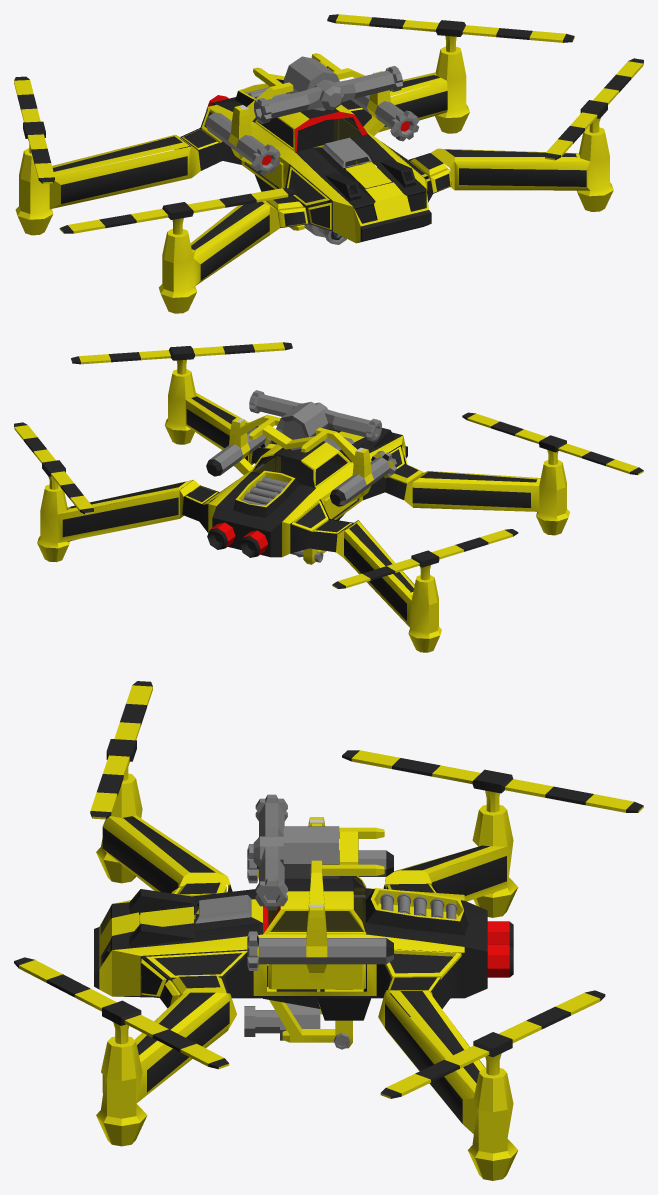
Rendered from Zutiszutim.fbx.
3 views of the same model, one above another, from view 1: azimuth 30°, elevation 25°; view 2: azimuth 150°, elevation 25°; view 3: azimuth 270°, elevation 25° (orthographic). The views are drawn at different scales.
Visible parts, largest first — view 1: drone_costum_Cube.001, drone_costum_Cube.003, drone_costum_Cube, drone_costum_Cube.002, drone_costum_Cube.004; view 2: drone_costum_Cube.001, drone_costum_Cube.002, drone_costum_Cube.004, drone_costum_Cube, drone_costum_Cube.003; view 3: drone_costum_Cube.001, drone_costum_Cube.004, drone_costum_Cube.003, drone_costum_Cube.002, drone_costum_Cube.
Part boxes in pixels (x1=…): drone_costum_Cube.001: x1=15, y1=46, x2=613, y2=313; drone_costum_Cube.003: x1=327, y1=14, x2=574, y2=52; drone_costum_Cube: x1=59, y1=188, x2=295, y2=234; drone_costum_Cube.002: x1=545, y1=58, x2=643, y2=160; drone_costum_Cube.004: x1=14, y1=76, x2=54, y2=183; drone_costum_Cube.001: x1=37, y1=369, x2=569, y2=652; drone_costum_Cube.002: x1=71, y1=342, x2=292, y2=374; drone_costum_Cube.004: x1=332, y1=529, x2=518, y2=588; drone_costum_Cube: x1=462, y1=412, x2=643, y2=474; drone_costum_Cube.003: x1=14, y1=422, x2=93, y2=514; drone_costum_Cube.001: x1=94, y1=773, x2=518, y2=1180; drone_costum_Cube.004: x1=342, y1=750, x2=643, y2=812; drone_costum_Cube.003: x1=380, y1=990, x2=605, y2=1098; drone_costum_Cube.002: x1=14, y1=957, x2=229, y2=1069; drone_costum_Cube: x1=90, y1=681, x2=152, y2=819.
Bounding box in the file's own units: 1283 × 335 × 885.
Materials: 9 (2 with a texture image).
